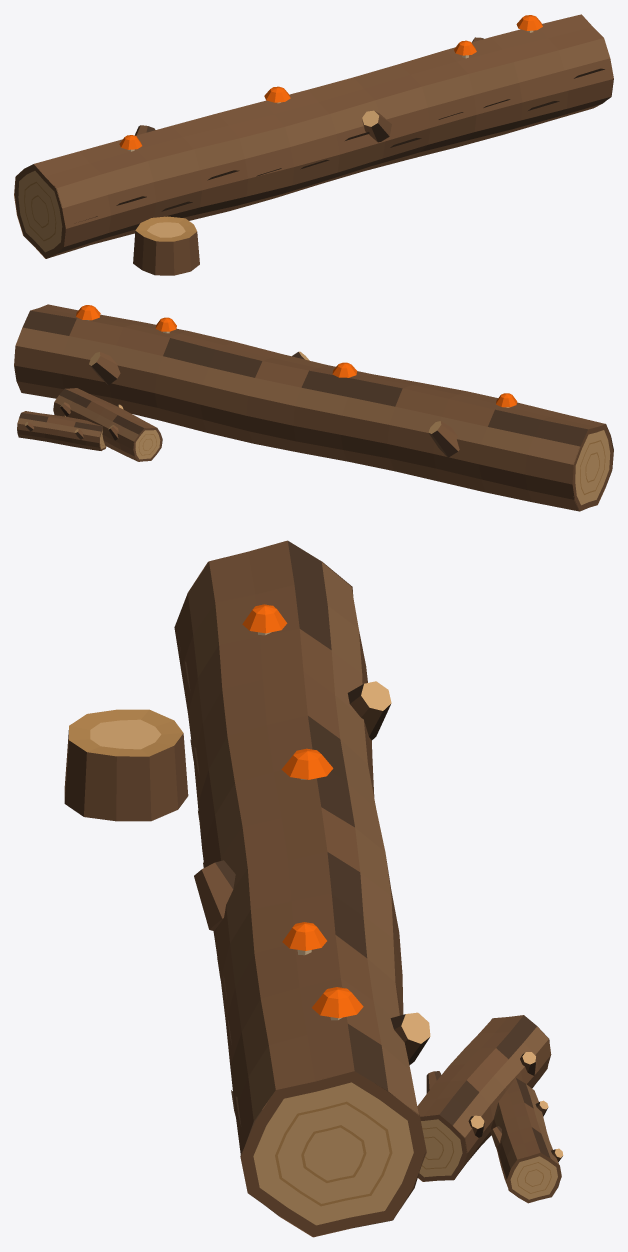
File: log_three_lane_C.glb
3 views of the same model, one above another, from view 1: azimuth 30°, elevation 25°; view 2: azimuth 150°, elevation 25°; view 3: azimuth 270°, elevation 25° (orthographic). The views are drawn at different scales.
Parts seen in each view (by area): view 1: log_three_lane_C; view 2: log_three_lane_C; view 3: log_three_lane_C.
Part boxes in pixels (left/top/right/bottom): log_three_lane_C: left=14, top=14, right=613, bottom=275; log_three_lane_C: left=14, top=304, right=613, bottom=511; log_three_lane_C: left=64, top=540, right=563, bottom=1237.
Size of the model in its own units: 7.24 by 1.25 by 2.87.
